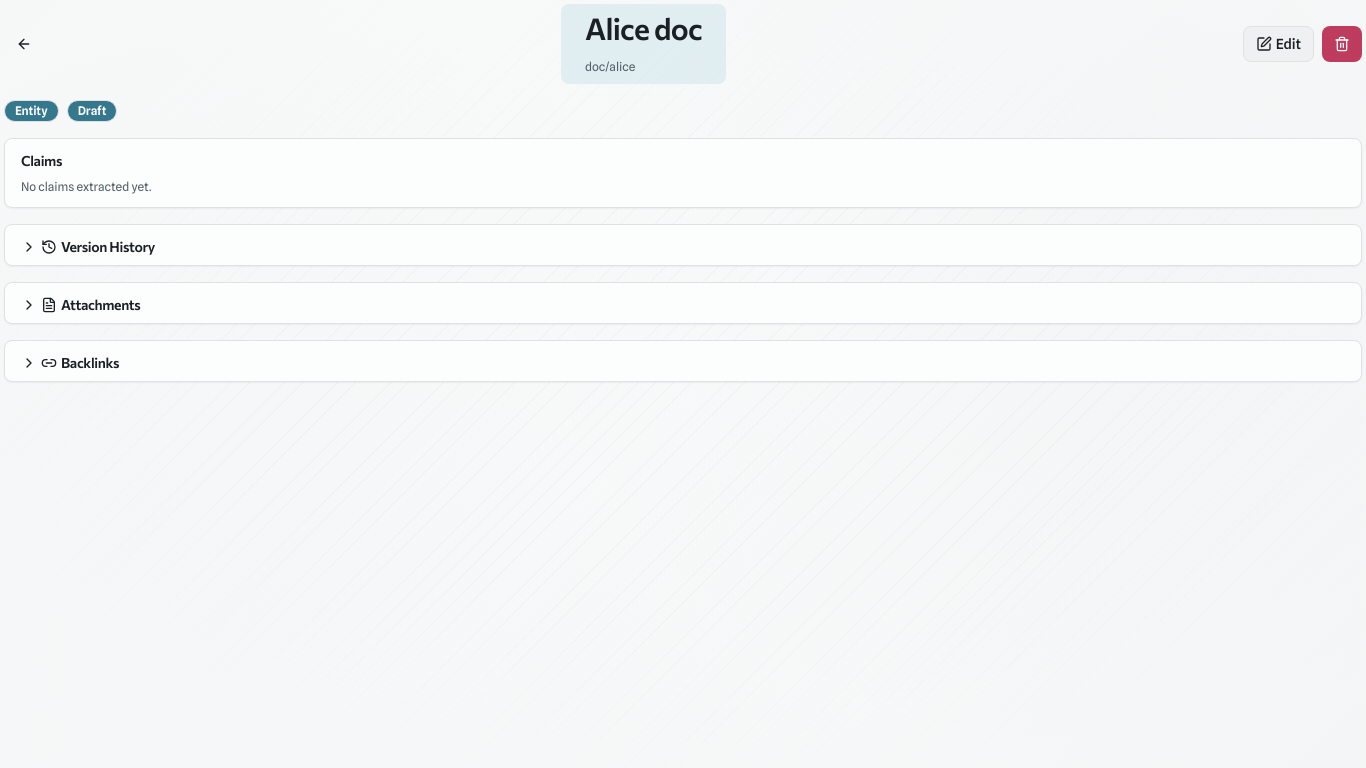
Test case: issue 774 WikiPageDetail section failure states › shows a failure line, not the empty verdict, when backlinks fail to load
What coordinates should you click on to do the following:
click the text "Backlinks"
I would click on:
 (70, 362)
Its box is 21,354 -> 119,371.
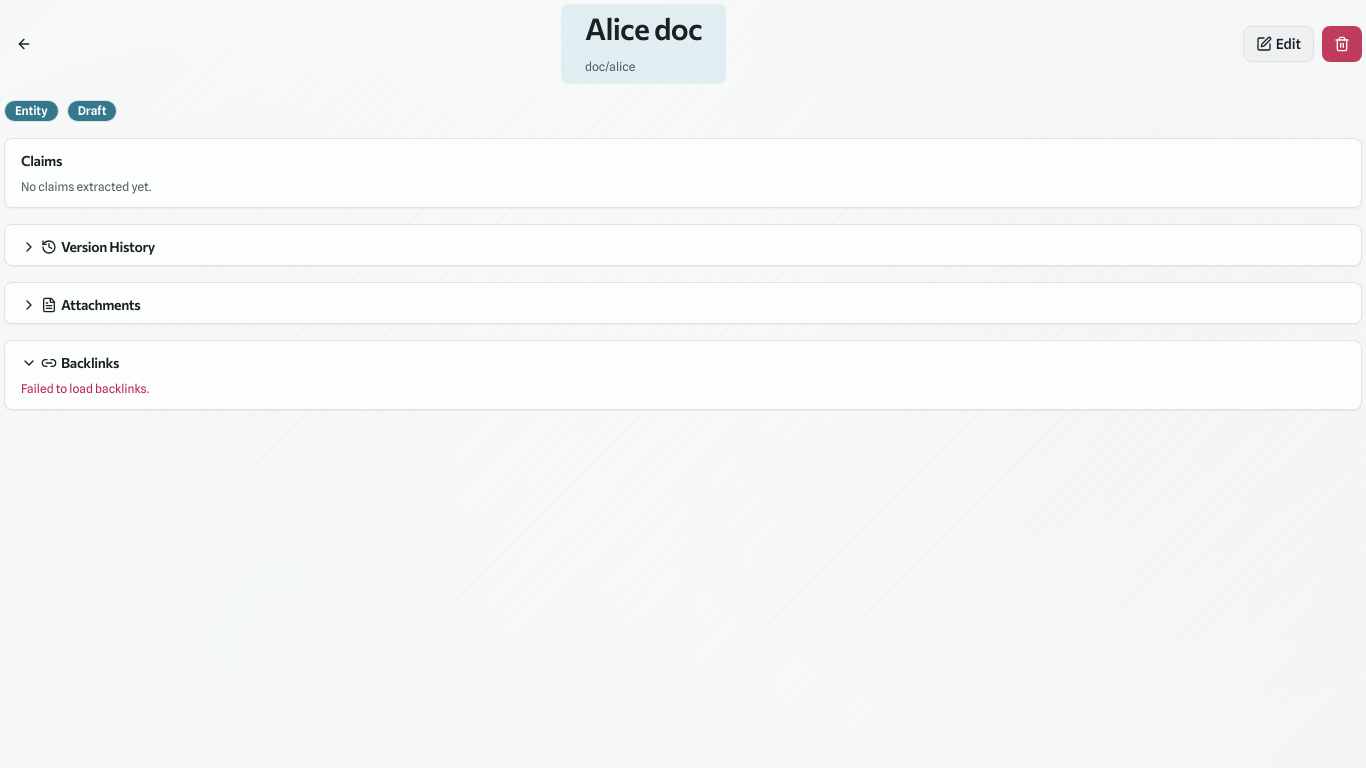
Result: the message shows "Failed to load backlinks" at 21,381 -> 149,396
